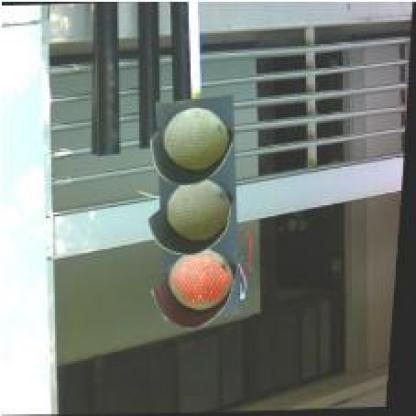red: (141, 96, 259, 322)
